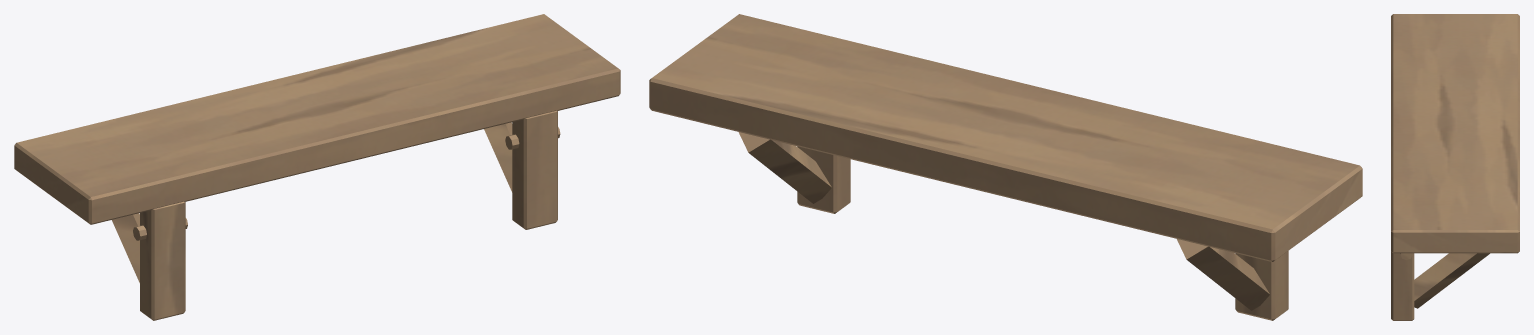
The model's file is F06_wall_shelf.fbx.
The picture shows the model from 3 angles, left to right: view 1: azimuth 30°, elevation 25°; view 2: azimuth 150°, elevation 25°; view 3: azimuth 270°, elevation 25°; orthographic projection. The views are drawn at different scales.
Visible parts, largest first — view 1: F06_Wallshelf; view 2: F06_Wallshelf; view 3: F06_Wallshelf.
Part boxes in pixels (left/top/right/bottom): F06_Wallshelf: left=14, top=14, right=620, bottom=320; F06_Wallshelf: left=649, top=14, right=1362, bottom=320; F06_Wallshelf: left=1391, top=14, right=1519, bottom=320.
Bounding box in the file's own units: 1 × 0.25 × 0.25.
